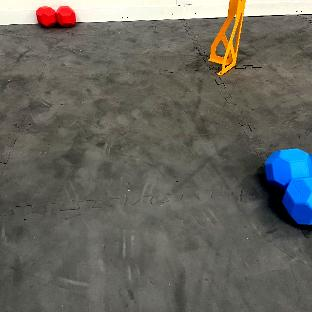V5_BLUE: (263, 148, 312, 225)
V5_RED: (37, 6, 76, 27)
